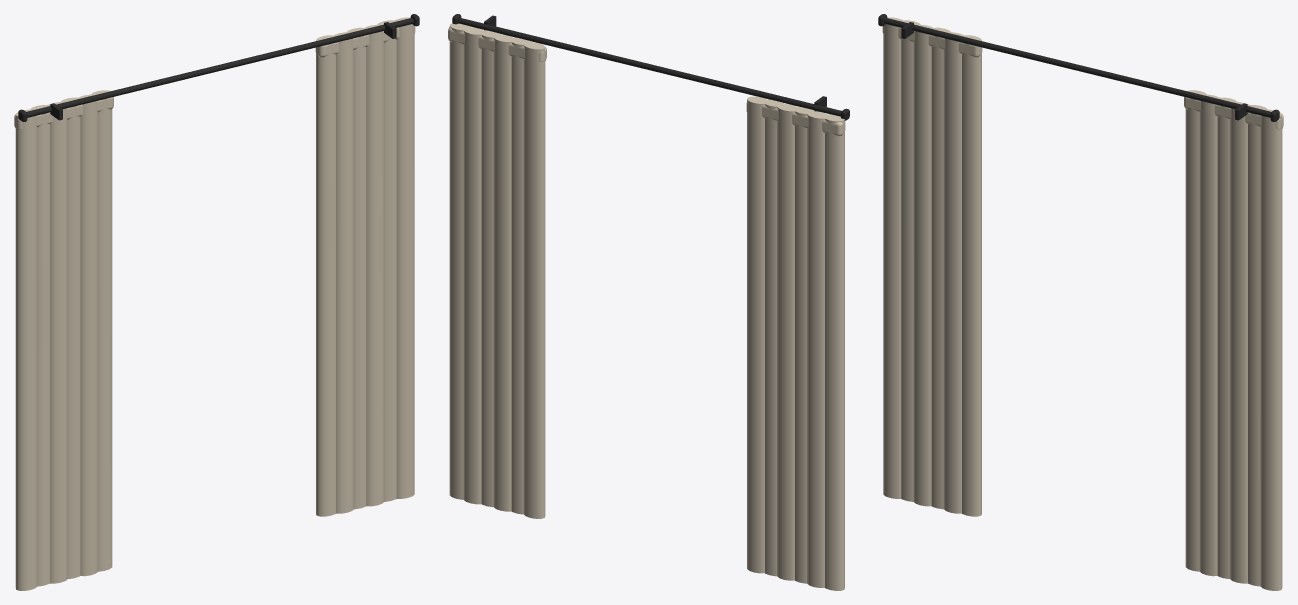
The picture shows the model from 3 angles, left to right: view 1: azimuth 30°, elevation 25°; view 2: azimuth 150°, elevation 25°; view 3: azimuth 330°, elevation 25°; orthographic projection.
Visible parts, largest first — view 1: fold-left-1, rod; view 2: fold-left-1, rod; view 3: fold-left-1, rod.
Boxes of the visible parts, x1,y1,x2,y2 form: fold-left-1: (14,17,415,590); rod: (18,14,419,121); fold-left-1: (448,23,845,590); rod: (452,14,849,120); fold-left-1: (882,17,1283,590); rod: (878,14,1279,121).
Bounding box in the file's own units: 2.1 × 2.42 × 0.16.
